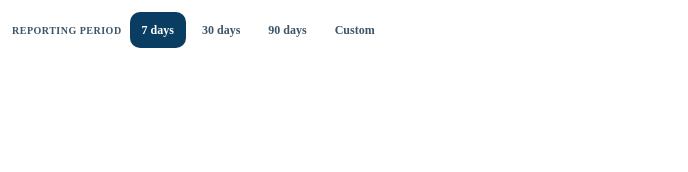
it: command center range frame › leaves custom mode when a preset is chosen again
The image size is (688, 172).
Click the button "Custom": (355,30) [323,12,387,48]
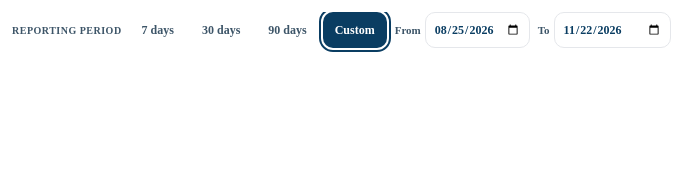
Check: the date field labelled "From" is shown, box [425,12,530,48]
Click the button "30 days": (221,30) [190,12,252,48]
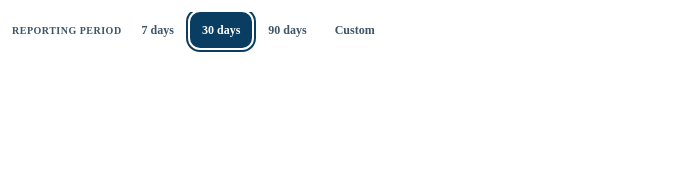
Check: the label labelled "From" is gone
